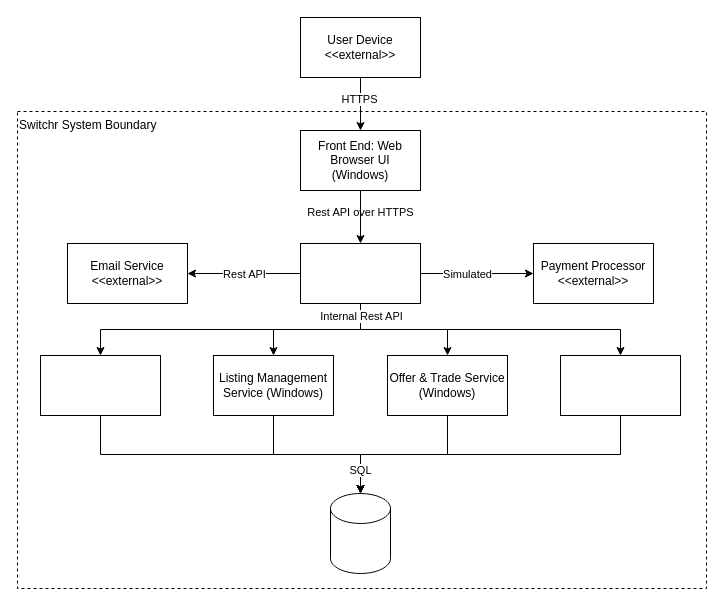
The diagram is 724 pixels wide and 606 high, and some of its shapes have lost their labels. The centre of each missing label's shape, as x and y in pixels:
Admin & Reporting Service (Windows): (620,385)
Authentication Service (Windows): (100,385)
Back End: Web Application Server (Windows): (360,273)
Database (Windows): (360,533)
